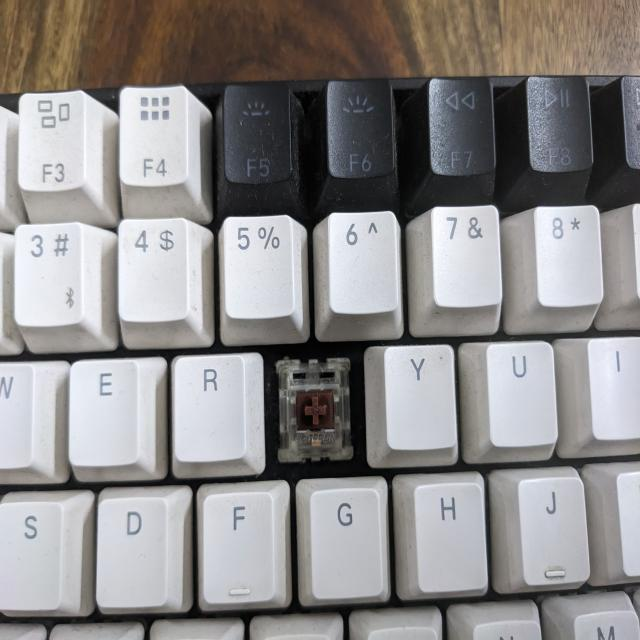C: (279, 362, 349, 459)
